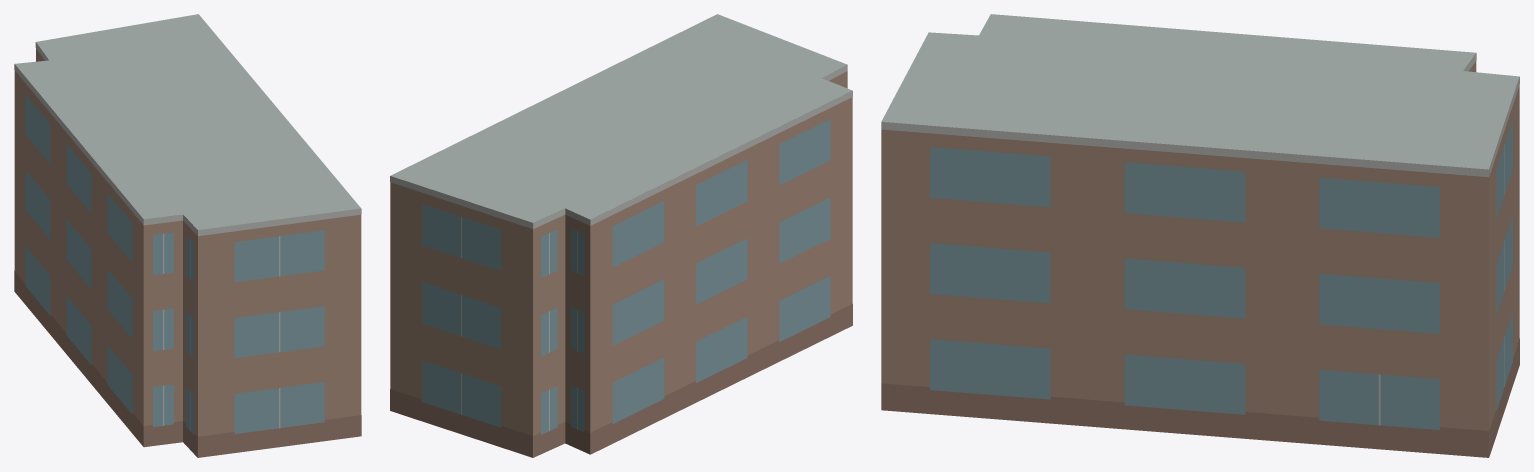
The model's file is survey-upis-32938596.glb.
3 views of the same model, side by side, from view 1: azimuth 30°, elevation 25°; view 2: azimuth 150°, elevation 25°; view 3: azimuth 270°, elevation 25° (orthographic). The views are drawn at different scales.
Parts seen in each view (by area): view 1: survey-upis-32938596.tmp; view 2: survey-upis-32938596.tmp; view 3: survey-upis-32938596.tmp.
Part boxes in pixels (box(x1,y1,x2,y2)): survey-upis-32938596.tmp: box(14, 14, 361, 457); survey-upis-32938596.tmp: box(390, 14, 852, 457); survey-upis-32938596.tmp: box(881, 14, 1519, 457).
Size of the model in its own units: 10.59 by 9.15 by 18.37.
